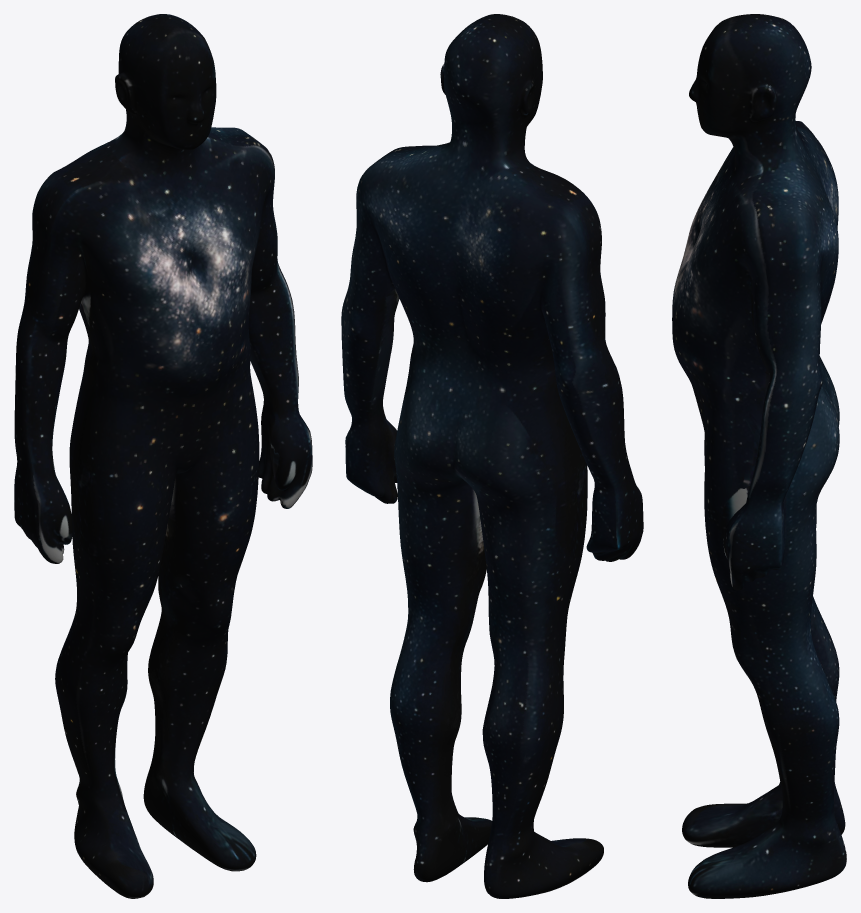
File: avatar.glb
3 renders of one model, left to right at view 1: azimuth 30°, elevation 25°; view 2: azimuth 150°, elevation 25°; view 3: azimuth 270°, elevation 25°, orthographic.
Visible parts, largest first — view 1: geometry_0; view 2: geometry_0; view 3: geometry_0.
Part boxes in pixels (x1,y1,x2,y2): geometry_0: (14, 14, 312, 898); geometry_0: (341, 14, 643, 898); geometry_0: (672, 14, 846, 898).
Bounding box in the file's own units: 0.6514 × 1.9 × 0.352.
1 material, 1 textured.
